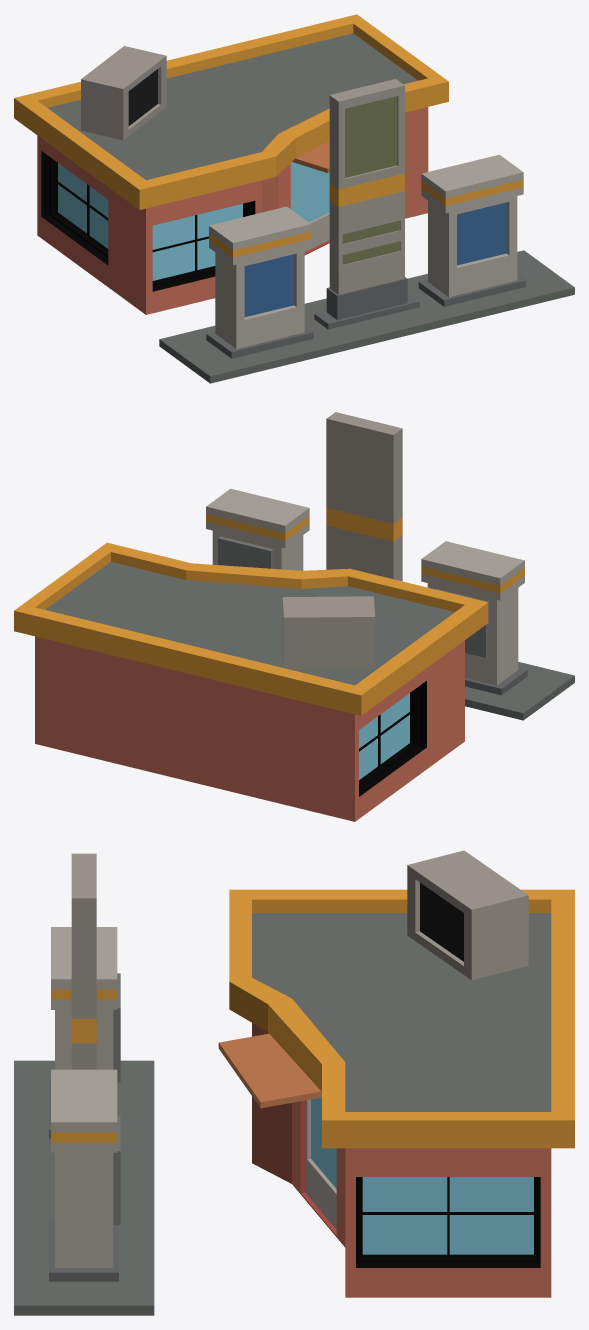
Rendered from SM_house_38.gltf.
3 renders of one model, top to bottom at view 1: azimuth 30°, elevation 25°; view 2: azimuth 150°, elevation 25°; view 3: azimuth 270°, elevation 25°, orthographic. The views are drawn at different scales.
Parts seen in each view (by area): view 1: SM_house_38; view 2: SM_house_38; view 3: SM_house_38.
Part boxes in pixels (x1,y1,x2,y2): SM_house_38: [14, 14, 574, 383]; SM_house_38: [14, 412, 574, 821]; SM_house_38: [14, 850, 574, 1315].
Bounding box in the file's own units: 3.74 × 2.26 × 3.62.
